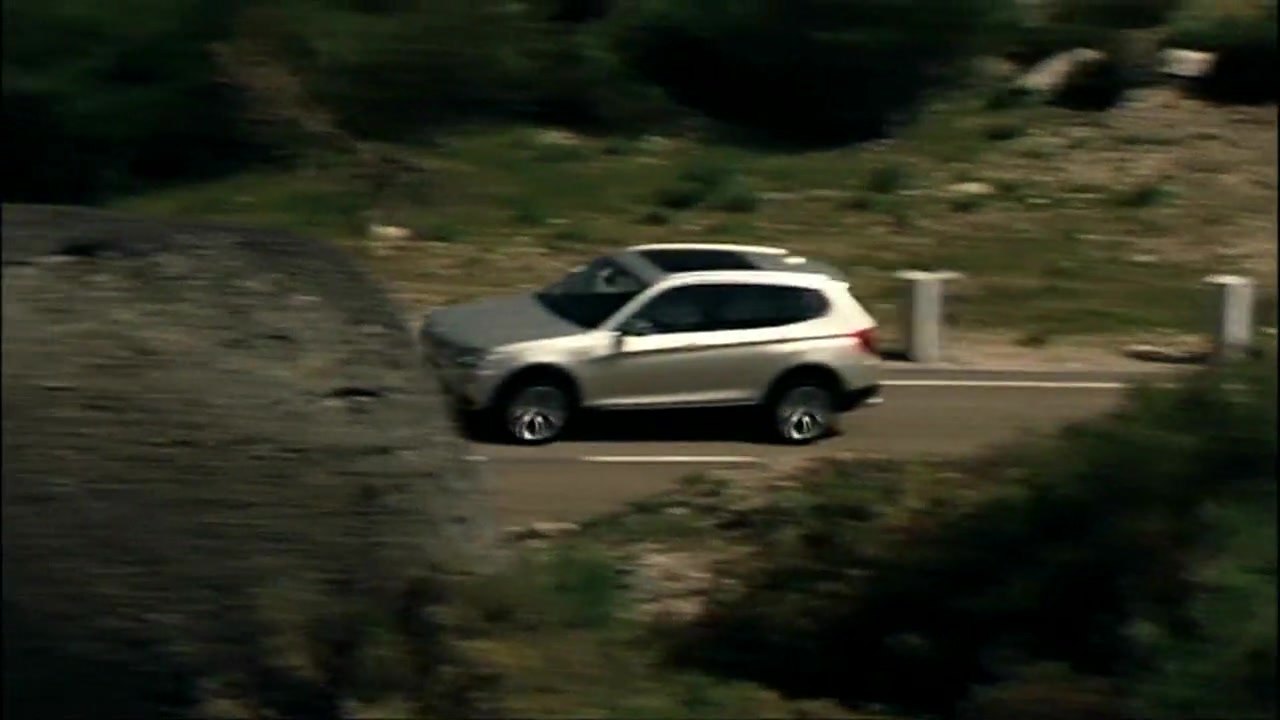car: (421, 235, 890, 445)
